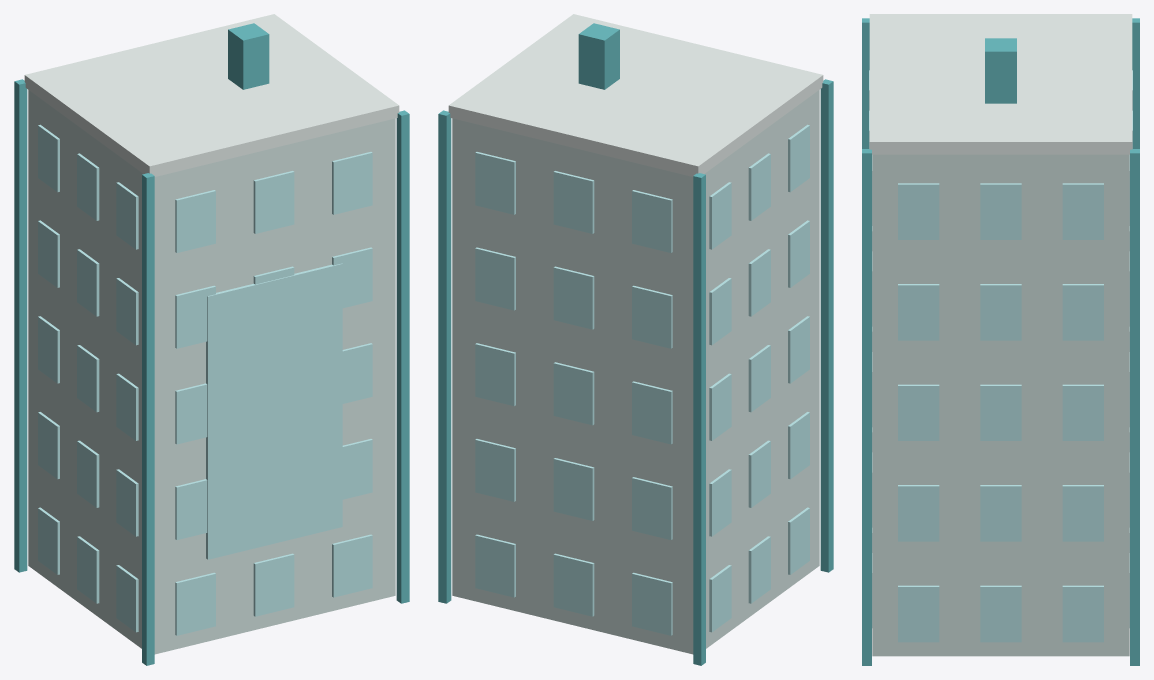
File: office_b.glb
The picture shows the model from 3 angles, left to right: view 1: azimuth 30°, elevation 25°; view 2: azimuth 150°, elevation 25°; view 3: azimuth 270°, elevation 25°; orthographic projection. The views are drawn at different scales.
Size of the model in its own units: 8.05 by 15.94 by 7.01.
